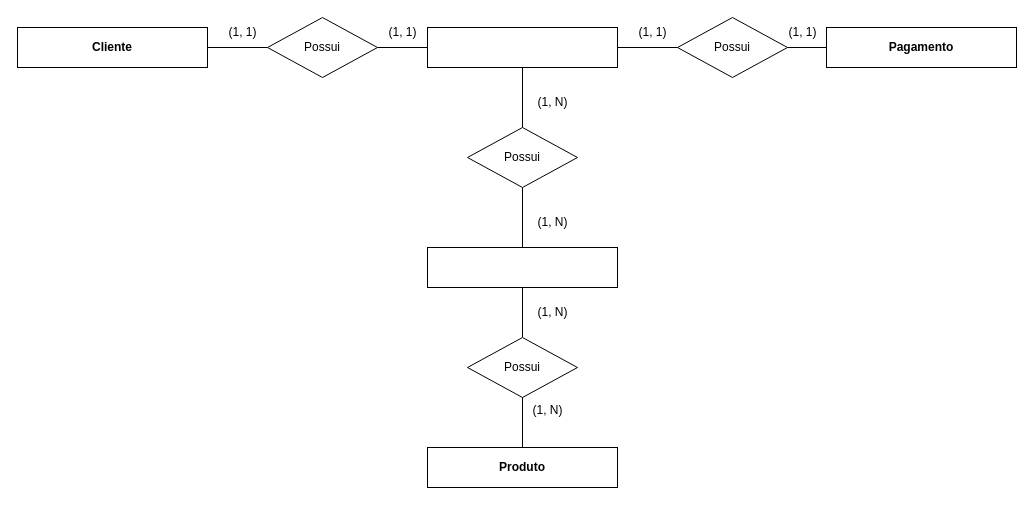
Image size: 1034x505. Some labels were removed from this diagram. The shapes that lost their labels are listed below. From the top down, each one's centre as x and y in pixels, then its label:
At pixel 522 47: "Pedido".
At pixel 522 267: "ItemDoProduto".
